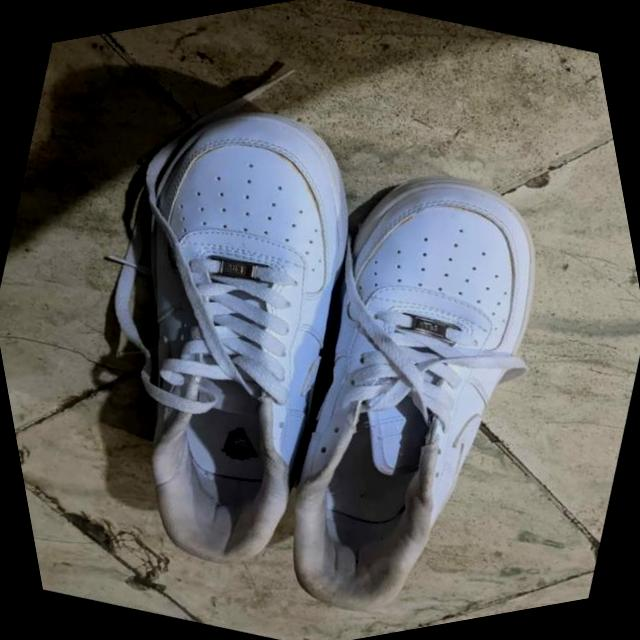nike_fake_airforce: (0, 57, 446, 609), (205, 127, 628, 640)
